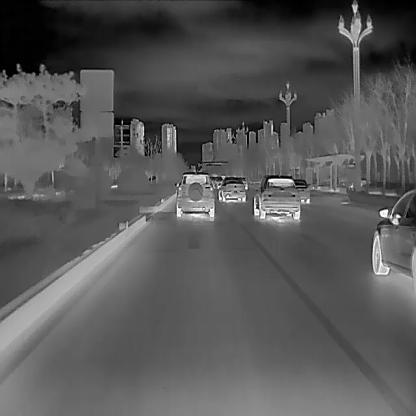car: (371, 189, 416, 280), (253, 174, 300, 218), (174, 171, 215, 217), (218, 176, 246, 201), (292, 178, 310, 202), (212, 176, 222, 188)
